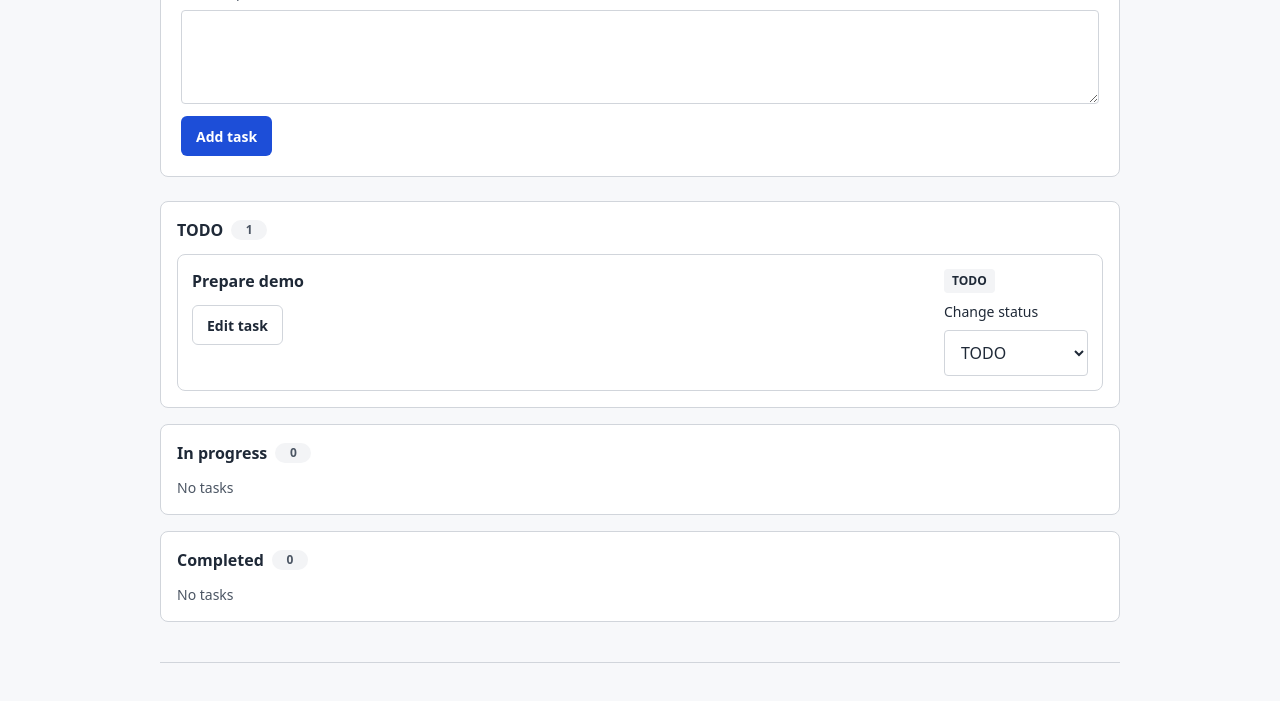
Test: task dashboard › changes a task status through PATCH and shows the refreshed group
(page scrolled)
Expected: the heading "Prepare demo" is shown, [192,270,304,292]
Select "Completed" in the dropdown labelled "Change status" at [1016, 353], box [944,330,1088,376]
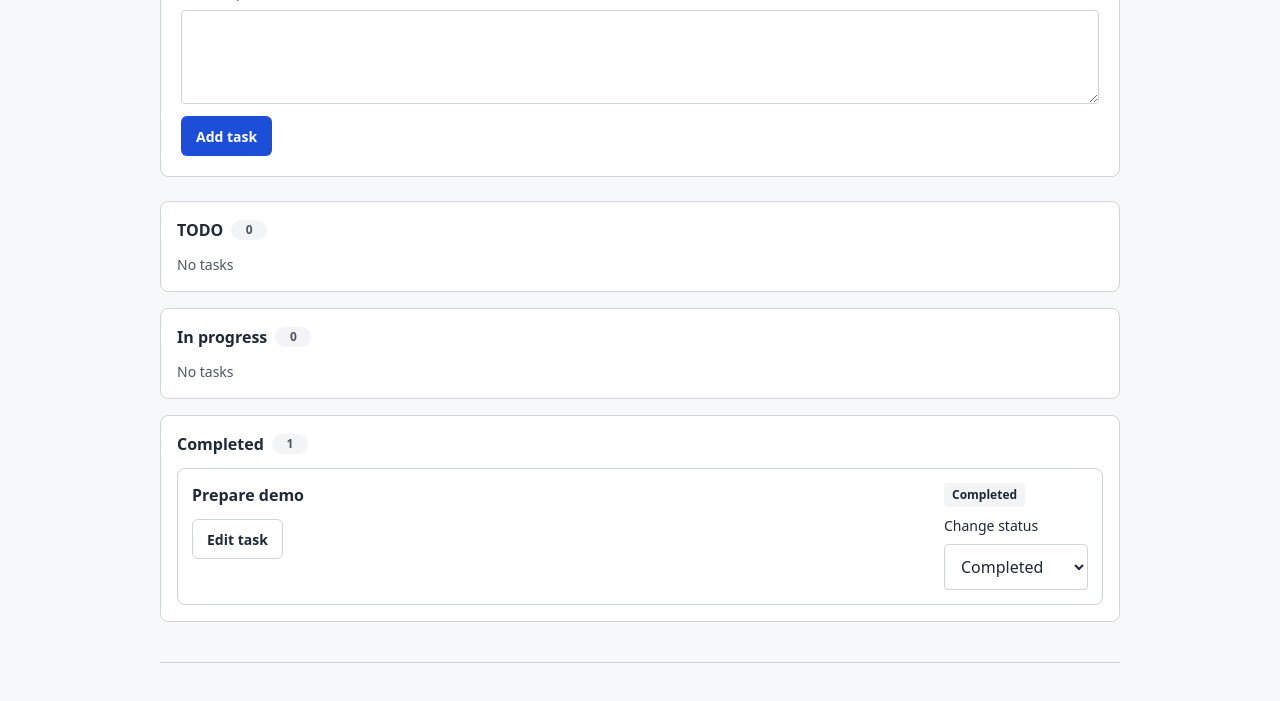
Expected: the heading "Prepare demo" is shown, [192,484,304,506]
Expected: the text "Completed" is shown, [944,483,1025,507]
